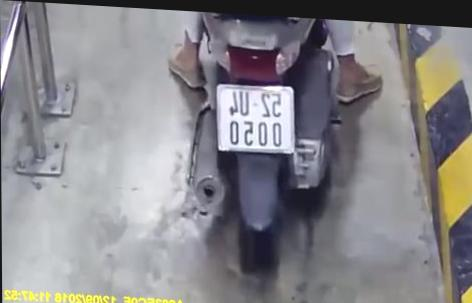License_Plate: (207, 80, 302, 161)
